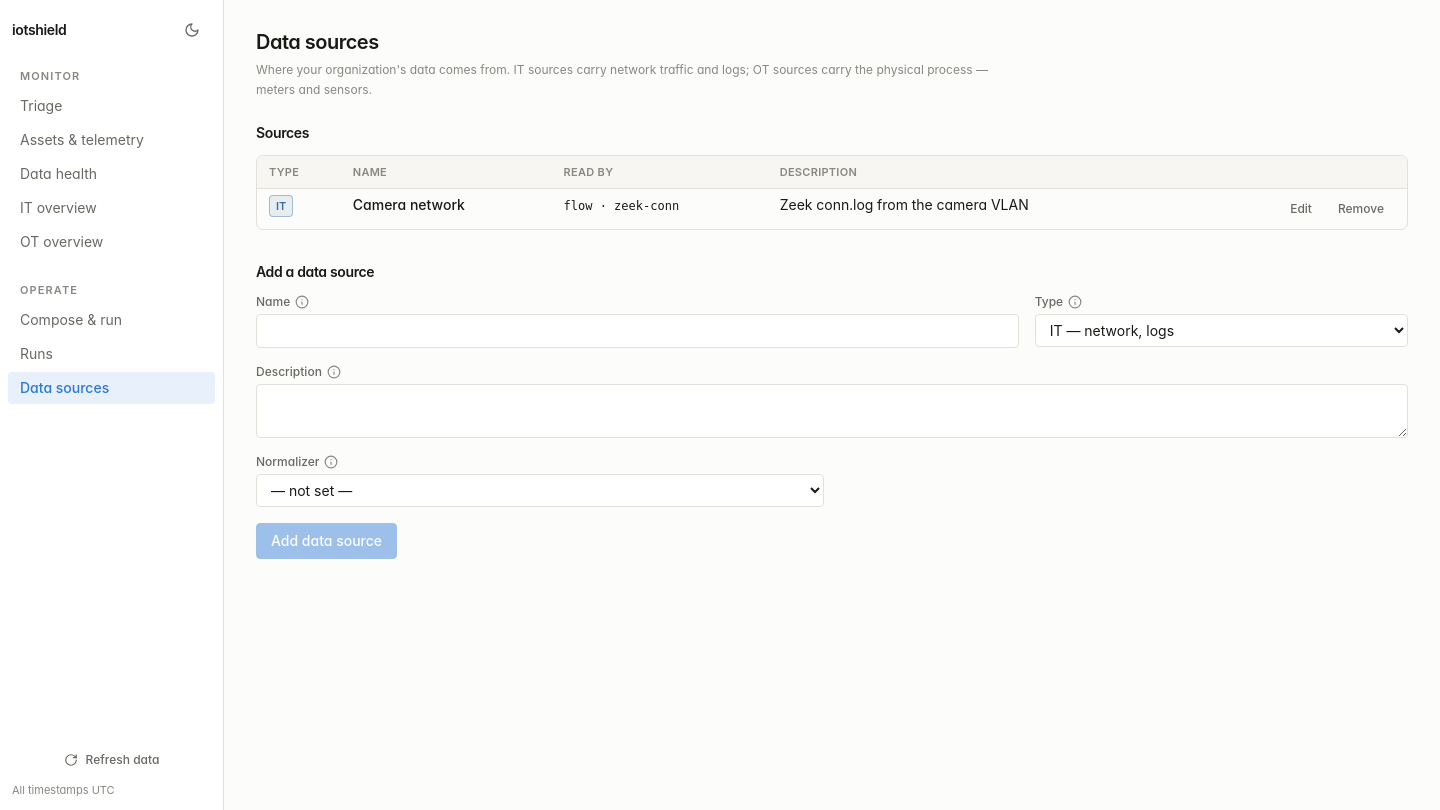
Test: Data sources page › edits a source in the same form
Click the button with test id "ds_edit_Camera network": (1301, 209) 1279,195 -> 1323,223
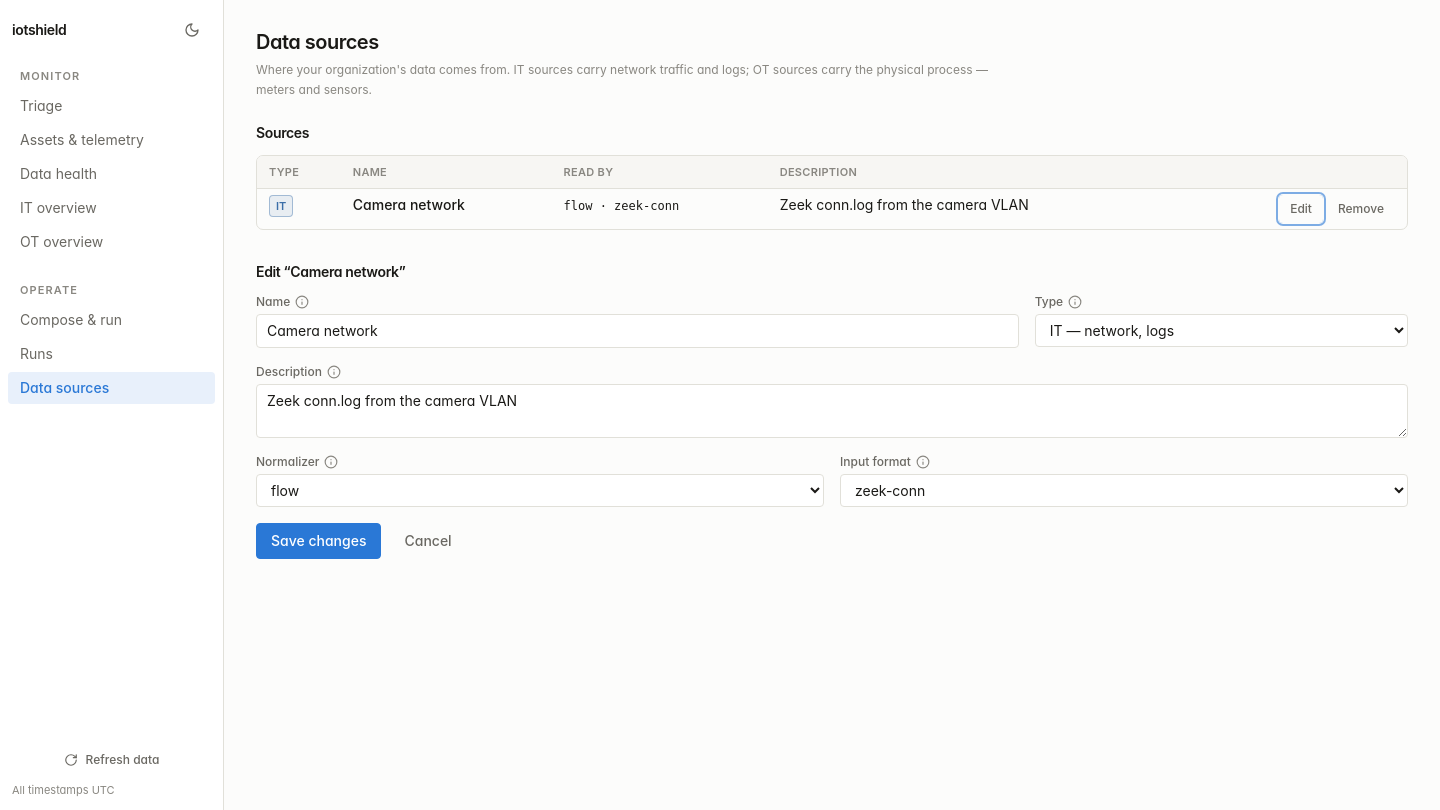
Now the heading "Edit “Camera network”" is shown, box 256,262 -> 405,282
Now the field with test id "ds_name" holds "Camera network"
Now the dropdown with test id "ds_format" shows "zeek-conn", box 840,474 -> 1408,507
Replace the text in the field with test id "ds_name" with "Camera VLAN": (637, 331) 256,314 -> 1019,348
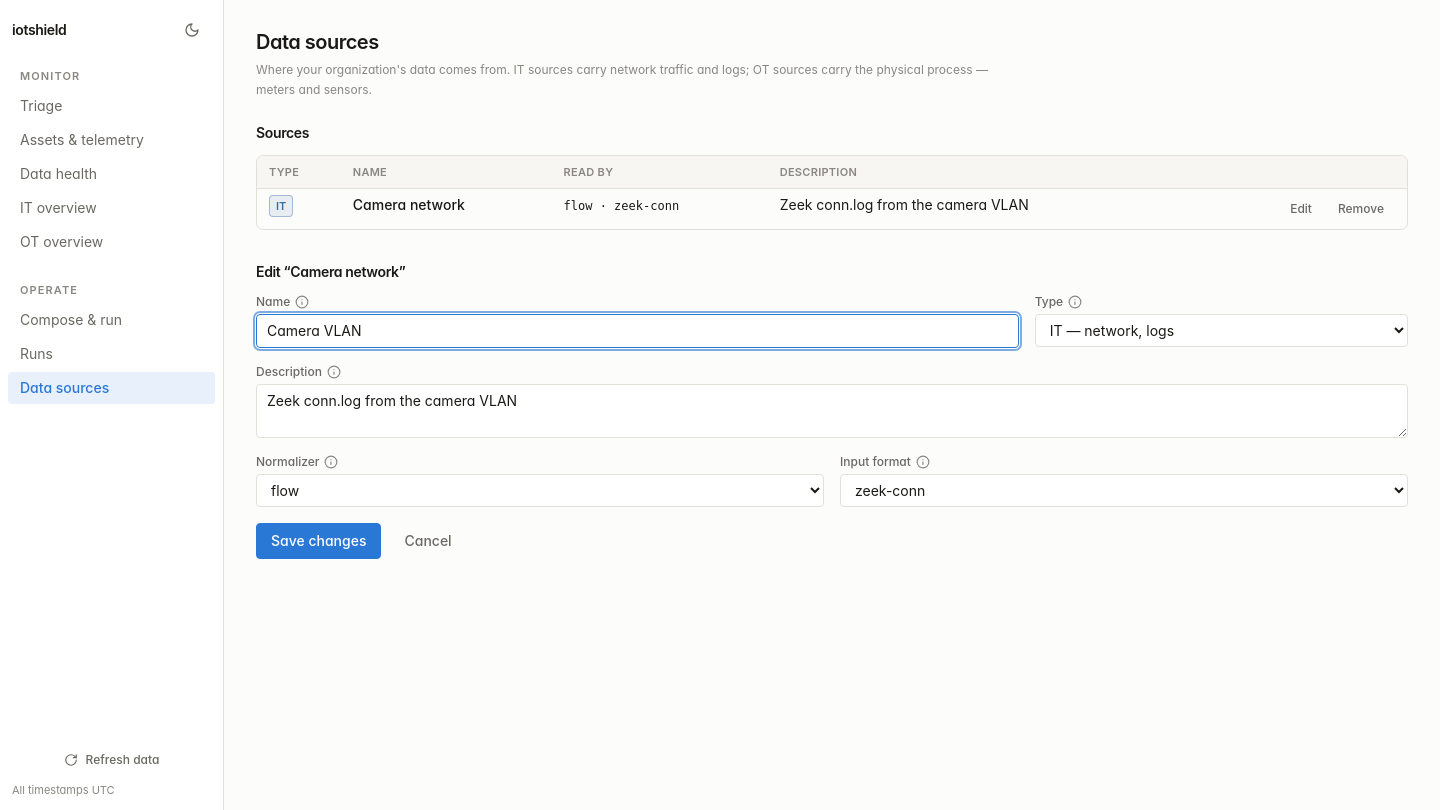
Click the button with test id "ds_save": (319, 541) 256,523 -> 382,559
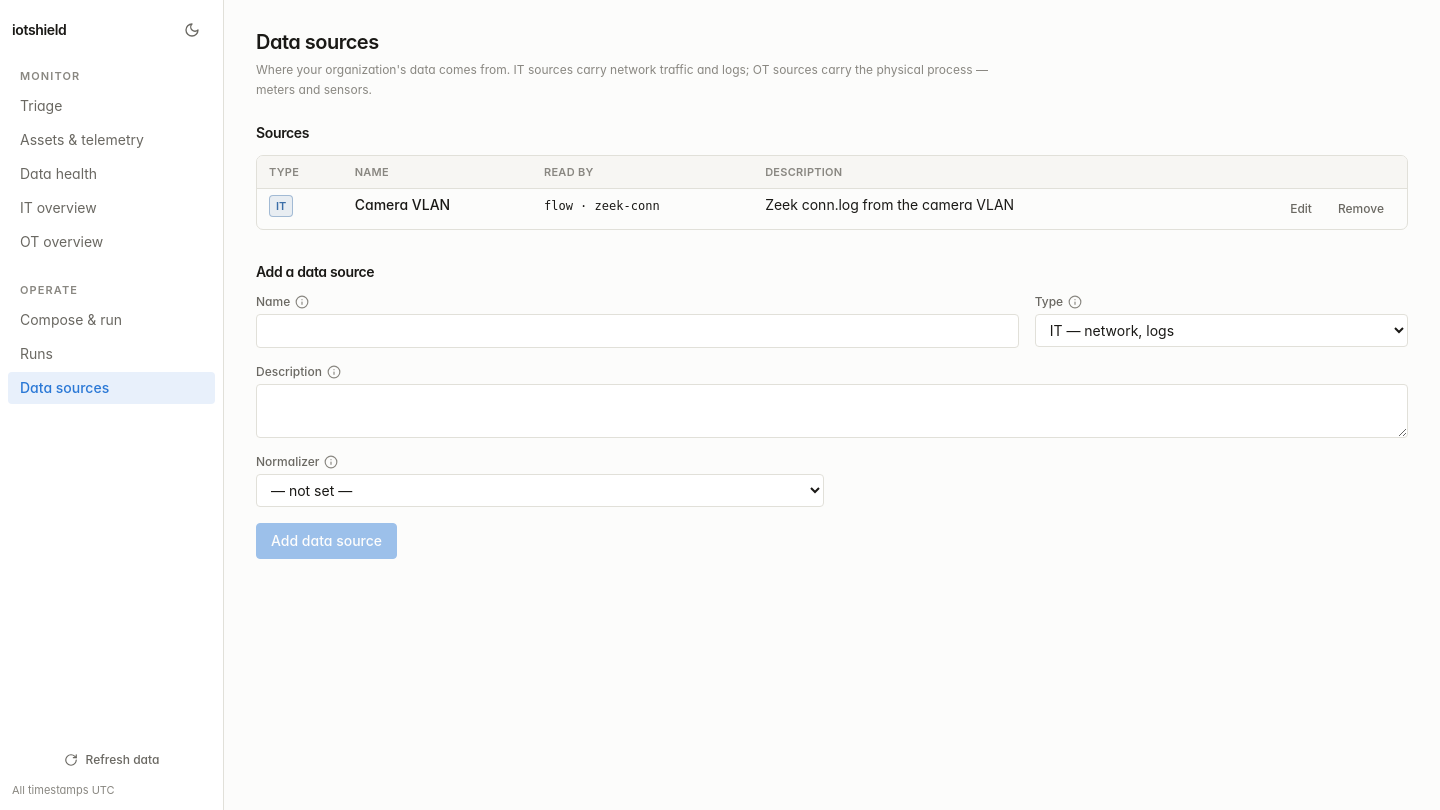
Now the text "Camera VLAN" is shown, box 355,196 -> 450,213
Now the heading "Add a data source" is shown, box 256,262 -> 374,282
